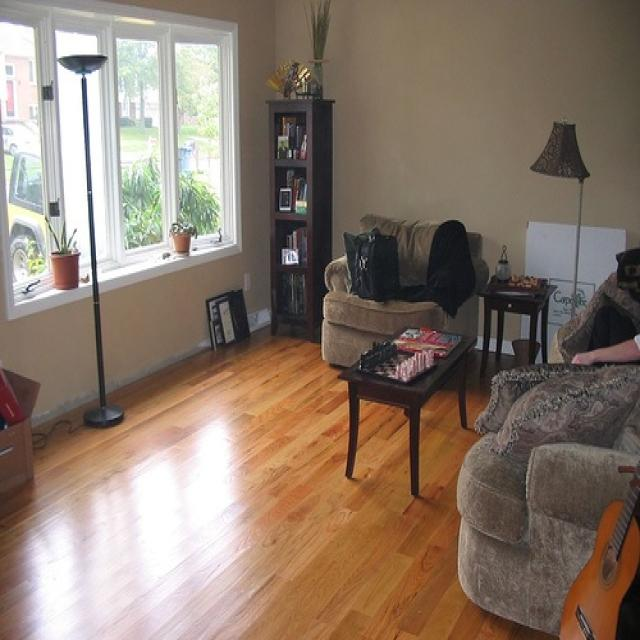chair: (321, 213, 479, 367)
pottedplant: (42, 215, 83, 288), (168, 210, 195, 256)
sofa: (460, 259, 638, 630)
